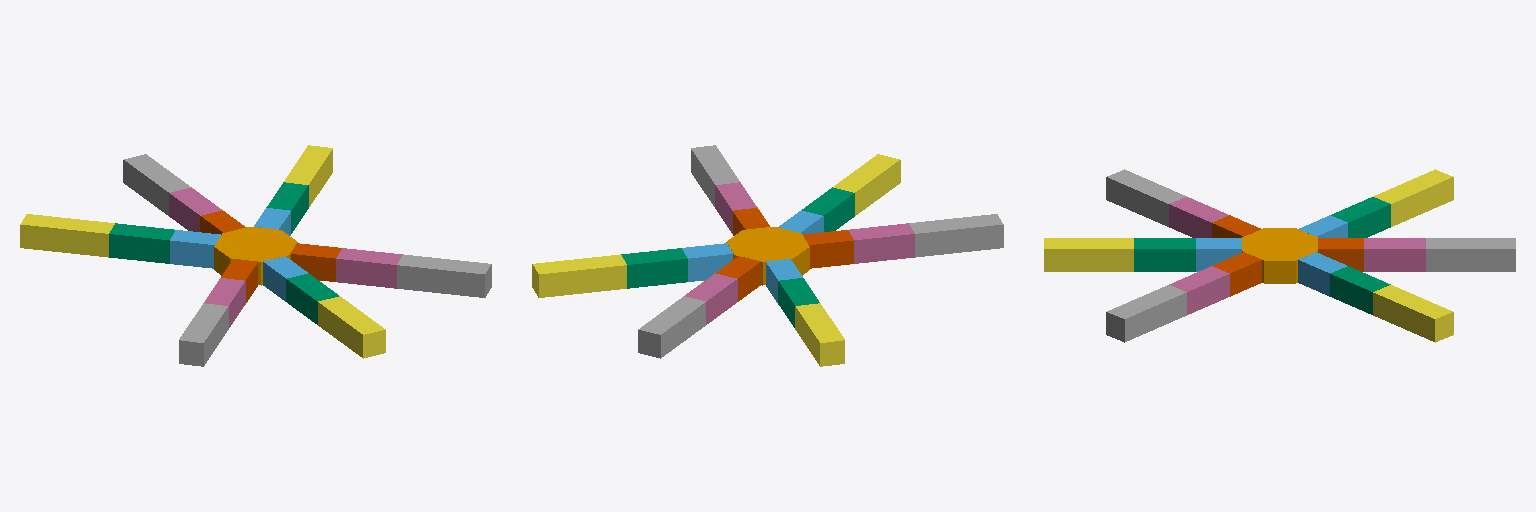
--- What the picture shows (computed from the rendered views, not written in the file) ---
The picture shows the robot from 3 angles, left to right: view 1: azimuth 30°, elevation 25°; view 2: azimuth 150°, elevation 25°; view 3: azimuth 270°, elevation 25°; orthographic projection.
Robot: rokusoku2 — 25 links, 24 joints (24 revolute); root link base; default pose: all joints at 0.
Links seen in each view (by area): view 1: link4_3, link3_3, link5_3, base, link6_3, link3_2, link4_2, link2_3, link1_3, link3_1, link5_2, link2_2 (+7 smaller); view 2: link1_3, link6_3, link2_3, base, link3_3, link6_2, link1_2, link5_3, link4_3, link6_1, link2_2, link5_2 (+7 smaller); view 3: link2_3, link5_3, base, link1_3, link4_3, link3_3, link6_3, link2_2, link5_2, link1_2, link4_2, link3_2 (+7 smaller).
Link boxes in pixels (x1=…): link4_3: x1=397, y1=254, x2=491, y2=297; link3_3: x1=20, y1=214, x2=114, y2=257; link5_3: x1=318, y1=296, x2=385, y2=358; base: x1=214, y1=227, x2=297, y2=285; link6_3: x1=179, y1=303, x2=228, y2=366; link3_2: x1=109, y1=223, x2=174, y2=263; link4_2: x1=336, y1=248, x2=402, y2=288; link2_3: x1=123, y1=154, x2=190, y2=215; link1_3: x1=284, y1=145, x2=332, y2=206; link3_1: x1=170, y1=230, x2=220, y2=268; link5_2: x1=286, y1=273, x2=338, y2=324; link2_2: x1=169, y1=187, x2=221, y2=231; link1_3: x1=532, y1=254, x2=626, y2=297; link6_3: x1=909, y1=214, x2=1003, y2=257; link2_3: x1=638, y1=296, x2=705, y2=358; base: x1=726, y1=227, x2=809, y2=285; link3_3: x1=795, y1=303, x2=844, y2=366; link6_2: x1=849, y1=223, x2=914, y2=263; link1_2: x1=621, y1=248, x2=687, y2=288; link5_3: x1=833, y1=154, x2=900, y2=215; link4_3: x1=691, y1=145, x2=739, y2=206; link6_1: x1=803, y1=230, x2=853, y2=268; link2_2: x1=685, y1=273, x2=737, y2=324; link5_2: x1=802, y1=187, x2=854, y2=231; link2_3: x1=1426, y1=238, x2=1515, y2=271; link5_3: x1=1044, y1=238, x2=1133, y2=271; base: x1=1242, y1=228, x2=1317, y2=283; link1_3: x1=1373, y1=285, x2=1453, y2=342; link4_3: x1=1106, y1=285, x2=1186, y2=342; link3_3: x1=1373, y1=169, x2=1453, y2=226; link6_3: x1=1106, y1=169, x2=1186, y2=226; link2_2: x1=1364, y1=238, x2=1425, y2=271; link5_2: x1=1134, y1=238, x2=1195, y2=271; link1_2: x1=1330, y1=266, x2=1390, y2=314; link4_2: x1=1169, y1=266, x2=1229, y2=314; link3_2: x1=1331, y1=197, x2=1390, y2=237.
Bounding box of the posed robot: 0.6932 × 0.92 × 0.05 m (x, y, z).
Meshes: 1 distinct files referenced, 1 mesh visuals loaded (1 binary STL).

robot.urdf — rokusoku2:
<?xml version="1.0" ?>
<robot name="rokusoku2">

	<link name="base">
	    <collision>
	        <origin rpy="0 0 0" xyz="-0.072 -0.07484 -0.025"/>
	        <geometry>
	            <mesh filename="package://sim/meshes/nhati.STL" scale="0.0001 0.0001 0.0025"/>
	            <!--<box size="0.1 0.1 0.5"/>-->
	        </geometry>
	    </collision>
        <visual>
	        <origin rpy="0 0 0" xyz="-0.072 -0.07484 -0.025"/>
	        <geometry>
	            <mesh filename="package://sim/meshes/nhati.STL" scale="0.0001 0.0001 0.0025"/>
	            <!--<box size="0.1 0.1 0.5"/>-->
	        </geometry>
	    </visual>
        <inertial>
            <origin rpy="0 0 0" xyz="-0.036 -0.03742 -0.0125"/>
            <mass value="0.3"/>
			<inertia ixx="1e-4" ixy="1e-7" ixz="1e-7" iyy="1e-4" iyz="1e-7" izz="1e-4"/>
       </inertial>
	</link>

	<!-- Joint1 -->
    <joint name="Joint1_1" type="revolute">
        <parent link="base"/>
        <child link="link1_1"/>
        <origin rpy="0 0 -0.8" xyz="0.056 0.053 0"/>
        <axis xyz="0 0 1"/>
        <dynamics damping="0.4"/>
        <limit effort="30" lower="-2.617" upper="2.617" velocity="1.571"/>
    </joint>

	<!-- Link1 -->
	<link name="link1_1">
		<collision>
			<origin rpy="0 0 0" xyz="0 0.045 0"/>
			<geometry>
				<box size="0.05 0.09 0.05"/>
			</geometry>
		</collision>
		<visual>
			<origin rpy="0 0 0" xyz="0 0.045 0"/>
			<geometry>
				<box size="0.05 0.09 0.05"/>
			</geometry>
		</visual>
		<inertial>
			<origin rpy="0 0 0" xyz="0 0.045 0"/>
			<mass value="0.06"/>
			<inertia ixx="1e-4" ixy="1e-7" ixz="1e-7" iyy="1e-4" iyz="1e-7" izz="1e-4"/>
		</inertial>
	</link>

	<!-- Joint2 -->
	<joint name="Joint1_2" type="revolute">
		<parent link="link1_1"/>
		<child link="link1_2"/>
		<origin rpy="0 0 0" xyz="0 0.09 0"/>
		<axis xyz="1 0 0"/>
		<limit effort="30" lower="-2.617" upper="2.617" velocity="1.571"/>
	</joint>

	<!-- Link2 -->
	<link name="link1_2">
		<collision>
			<origin rpy="0 0 0" xyz="0 0.06 0"/>
			<geometry>
				<box size="0.05 0.12 0.05"/>
			</geometry>
		</collision>
		<visual>
			<origin rpy="0 0 0" xyz="0 0.06 0"/>
			<geometry>
				<box size="0.05 0.12 0.05"/>
			</geometry>
		</visual>
		<inertial>
			<origin rpy="0 0 0" xyz="0 0.06 0"/>
			<mass value="0.08"/>
			<inertia ixx="1e-4" ixy="1e-7" ixz="1e-7" iyy="1e-4" iyz="1e-7" izz="1e-4"/>
		</inertial>
	</link>

	<!-- Joint3 -->
	<joint name="Joint1_3" type="revolute">
		<parent link="link1_2"/>
		<child link="link1_3"/>
		<origin rpy="0 0 0" xyz="0 0.12 0"/>
		<axis xyz="1 0 0"/>
		<limit effort="30" lower="-2.617" upper="2.617" velocity="1.571"/>
	</joint>

	<!-- Link3 -->
	<link name="link1_3">
		<collision>
			<origin rpy="0 0 0" xyz="0 0.0875 0"/>
			<geometry>
				<box size="0.05 0.175 0.05"/>
			</geometry>
		</collision>
		<visual>
			<origin rpy="0 0 0" xyz="0 0.0875 0"/>
			<geometry>
				<box size="0.05 0.175 0.05"/>
			</geometry>
		</visual>
		<inertial>
			<origin rpy="0 0 0" xyz="0 0.0875 0"/>
			<mass value="0.12"/>
			<inertia ixx="1e-4" ixy="1e-7" ixz="1e-7" iyy="1e-4" iyz="1e-7" izz="1e-4"/>
		</inertial>
	</link>

	<!-- Joint4 -->
	<joint name="Joint1_4" type="revolute">
		<parent link="link1_3"/>
		<child link="link1_4"/>
		<origin rpy="0 0 0" xyz="0 0.175 0"/>
		<axis xyz="0 0 0"/>
		<limit effort="0" lower="0" upper="0" velocity="0"/>
	</joint>

    <!-- Link4 -->
    <link name="link1_4">
        <inertial>
            <origin rpy="0 0 0" xyz=" 0 0 0"/>
            <mass value="0.1"/>
			<inertia ixx="1e-4" ixy="1e-7" ixz="1e-7" iyy="1e-4" iyz="1e-7" izz="1e-4"/>
        </inertial>
    </link>

	<!-- Joint1 -->
    <joint name="Joint2_1" type="revolute">
        <parent link="base"/>
        <child link="link2_1"/>
        <origin rpy="0 0 0" xyz="0 0.075 0"/>
        <axis xyz="0 0 1"/>
        <limit effort="30" lower="-2.617" upper="2.617" velocity="1.571"/>
    </joint>

	<!-- Link1 -->
	<link name="link2_1">
		<collision>
			<origin rpy="0 0 0" xyz="0 0.045 0"/>
			<geometry>
				<box size="0.05 0.09 0.05"/>
			</geometry>
		</collision>
		<visual>
			<origin rpy="0 0 0" xyz="0 0.045 0"/>
			<geometry>
				<box size="0.05 0.09 0.05"/>
			</geometry>
		</visual>
		<inertial>
			<origin rpy="0 0 0" xyz="0 0.045 0"/>
			<mass value="0.06"/>
			<inertia ixx="1e-4" ixy="1e-7" ixz="1e-7" iyy="1e-4" iyz="1e-7" izz="1e-4"/>
		</inertial>
	</link>

	<!-- Joint2 -->
	<joint name="Joint2_2" type="revolute">
		<parent link="link2_1"/>
		<child link="link2_2"/>
		<origin rpy="0 0 0" xyz="0 0.09 0"/>
		<axis xyz="1 0 0"/>
		<limit effort="30" lower="-2.617" upper="2.617" velocity="1.571"/>
	</joint>

	<!-- Link2 -->
	<link name="link2_2">
		<collision>
			<origin rpy="0 0 0" xyz="0 0.06 0"/>
			<geometry>
				<box size="0.05 0.12 0.05"/>
			</geometry>
		</collision>
		<visual>
			<origin rpy="0 0 0" xyz="0 0.06 0"/>
			<geometry>
				<box size="0.05 0.12 0.05"/>
			</geometry>
		</visual>
		<inertial>
			<origin rpy="0 0 0" xyz="0 0.06 0"/>
			<mass value="0.08"/>
			<inertia ixx="1e-4" ixy="1e-7" ixz="1e-7" iyy="1e-4" iyz="1e-7" izz="1e-4"/>
		</inertial>
	</link>

	<!-- Joint3 -->
	<joint name="Joint2_3" type="revolute">
		<parent link="link2_2"/>
		<child link="link2_3"/>
		<origin rpy="0 0 0" xyz="0 0.12 0"/>
		<axis xyz="1 0 0"/>
		<limit effort="30" lower="-2.617" upper="2.617" velocity="1.571"/>
	</joint>

	<!-- Link3 -->
	<link name="link2_3">
		<collision>
			<origin rpy="0 0 0" xyz="0 0.0875 0"/>
			<geometry>
				<box size="0.05 0.175 0.05"/>
			</geometry>
		</collision>
		<visual>
			<origin rpy="0 0 0" xyz="0 0.0875 0"/>
			<geometry>
				<box size="0.05 0.175 0.05"/>
			</geometry>
		</visual>
		<inertial>
			<origin rpy="0 0 0" xyz="0 0.0875 0"/>
			<mass value="0.12"/>
			<inertia ixx="1e-4" ixy="1e-7" ixz="1e-7" iyy="1e-4" iyz="1e-7" izz="1e-4"/>
		</inertial>
	</link>

	<!-- Joint4 -->
	<joint name="Joint2_4" type="revolute">
		<parent link="link2_3"/>
		<child link="link2_4"/>
		<origin rpy="0 0 0" xyz="0 0.175 0"/>
		<axis xyz="0 0 0"/>
		<limit effort="0" lower="0" upper="0" velocity="0"/>
	</joint>

    <!-- Link4 -->
    <link name="link2_4">
        <inertial>
            <origin rpy="0 0 0" xyz=" 0 0 0"/>
            <mass value="0.1"/>
			<inertia ixx="1e-4" ixy="1e-7" ixz="1e-7" iyy="1e-4" iyz="1e-7" izz="1e-4"/>
        </inertial>
    </link>


	<!-- Joint1 -->
    <joint name="Joint3_1" type="revolute">
        <parent link="base"/>
        <child link="link3_1"/>
        <origin rpy="0 0 0.8" xyz="-0.05 0.053 0"/>
        <axis xyz="0 0 1"/>
        <limit effort="30" lower="-2.617" upper="2.617" velocity="1.571"/>
    </joint>

	<!-- Link1 -->
	<link name="link3_1">
		<collision>
			<origin rpy="0 0 0" xyz="0 0.045 0"/>
			<geometry>
				<box size="0.05 0.09 0.05"/>
			</geometry>
		</collision>
		<visual>
			<origin rpy="0 0 0" xyz="0 0.045 0"/>
			<geometry>
				<box size="0.05 0.09 0.05"/>
			</geometry>
		</visual>
		<inertial>
			<origin rpy="0 0 0" xyz="0 0.045 0"/>
			<mass value="0.06"/>
			<inertia ixx="1e-4" ixy="1e-7" ixz="1e-7" iyy="1e-4" iyz="1e-7" izz="1e-4"/>
		</inertial>
	</link>

	<!-- Joint2 -->
	<joint name="Joint3_2" type="revolute">
		<parent link="link3_1"/>
		<child link="link3_2"/>
		<origin rpy="0 0 0" xyz="0 0.09 0"/>
		<axis xyz="1 0 0"/>
		<limit effort="30" lower="-2.617" upper="2.617" velocity="1.571"/>
	</joint>

	<!-- Link2 -->
	<link name="link3_2">
		<collision>
			<origin rpy="0 0 0" xyz="0 0.06 0"/>
			<geometry>
				<box size="0.05 0.12 0.05"/>
			</geometry>
		</collision>
		<visual>
			<origin rpy="0 0 0" xyz="0 0.06 0"/>
			<geometry>
				<box size="0.05 0.12 0.05"/>
			</geometry>
		</visual>
		<inertial>
			<origin rpy="0 0 0" xyz="0 0.06 0"/>
			<mass value="0.08"/>
			<inertia ixx="1e-4" ixy="1e-7" ixz="1e-7" iyy="1e-4" iyz="1e-7" izz="1e-4"/>
		</inertial>
	</link>

	<!-- Joint3 -->
	<joint name="Joint3_3" type="revolute">
		<parent link="link3_2"/>
		<child link="link3_3"/>
		<origin rpy="0 0 0" xyz="0 0.12 0"/>
		<axis xyz="1 0 0"/>
		<limit effort="30" lower="-2.617" upper="2.617" velocity="1.571"/>
	</joint>

	<!-- Link3 -->
	<link name="link3_3">
		<collision>
			<origin rpy="0 0 0" xyz="0 0.0875 0"/>
			<geometry>
				<box size="0.05 0.175 0.05"/>
			</geometry>
		</collision>
		<visual>
			<origin rpy="0 0 0" xyz="0 0.0875 0"/>
			<geometry>
				<box size="0.05 0.175 0.05"/>
			</geometry>
		</visual>
		<inertial>
			<origin rpy="0 0 0" xyz="0 0.0875 0"/>
			<mass value="0.12"/>
			<inertia ixx="1e-4" ixy="1e-7" ixz="1e-7" iyy="1e-4" iyz="1e-7" izz="1e-4"/>
		</inertial>
	</link>

	<!-- Joint4 -->
	<joint name="Joint3_4" type="revolute">
		<parent link="link3_3"/>
		<child link="link3_4"/>
		<origin rpy="0 0 0" xyz="0 0.175 0"/>
		<axis xyz="0 0 0"/>
		<limit effort="0" lower="0" upper="0" velocity="0"/>
	</joint>

    <!-- Link4 -->
    <link name="link3_4">
        <inertial>
            <origin rpy="0 0 0" xyz=" 0 0 0"/>
            <mass value="0.1"/>
			<inertia ixx="1e-4" ixy="1e-7" ixz="1e-7" iyy="1e-4" iyz="1e-7" izz="1e-4"/>
        </inertial>
    </link>


	<!-- Joint1 -->
    <joint name="Joint4_1" type="revolute">
        <parent link="base"/>
        <child link="link4_1"/>
        <origin rpy="0 0 0.8" xyz="0.056 -0.053 0"/>
        <axis xyz="0 0 -1"/>
        <limit effort="30" lower="-2.617" upper="2.617" velocity="1.571"/>
    </joint>

	<!-- Link1 -->
	<link name="link4_1">
		<collision>
			<origin rpy="0 0 0" xyz="0 -0.045 0"/>
			<geometry>
				<box size="0.05 0.09 0.05"/>
			</geometry>
		</collision>
		<visual>
			<origin rpy="0 0 0" xyz="0 -0.045 0"/>
			<geometry>
				<box size="0.05 0.09 0.05"/>
			</geometry>
		</visual>
		<inertial>
			<origin rpy="0 0 0" xyz="0 -0.045 0"/>
			<mass value="0.06"/>
			<inertia ixx="1e-4" ixy="1e-7" ixz="1e-7" iyy="1e-4" iyz="1e-7" izz="1e-4"/>
		</inertial>
	</link>

	<!-- Joint2 -->
	<joint name="Joint4_2" type="revolute">
		<parent link="link4_1"/>
		<child link="link4_2"/>
		<origin rpy="0 0 0" xyz="0 -0.09 0"/>
		<axis xyz="-1 0 0"/>
		<limit effort="30" lower="-2.617" upper="2.617" velocity="1.571"/>
	</joint>

	<!-- Link2 -->
	<link name="link4_2">
		<collision>
			<origin rpy="0 0 0" xyz="0 -0.06 0"/>
			<geometry>
				<box size="0.05 0.12 0.05"/>
			</geometry>
		</collision>
		<visual>
			<origin rpy="0 0 0" xyz="0 -0.06 0"/>
			<geometry>
				<box size="0.05 0.12 0.05"/>
			</geometry>
		</visual>
		<inertial>
			<origin rpy="0 0 0" xyz="0 -0.06 0"/>
			<mass value="0.08"/>
			<inertia ixx="1e-4" ixy="1e-7" ixz="1e-7" iyy="1e-4" iyz="1e-7" izz="1e-4"/>
		</inertial>
	</link>

	<!-- Joint3 -->
	<joint name="Joint4_3" type="revolute">
		<parent link="link4_2"/>
		<child link="link4_3"/>
		<origin rpy="0 0 0" xyz="0 -0.12 0"/>
		<axis xyz="-1 0 0"/>
		<limit effort="30" lower="-2.617" upper="2.617" velocity="1.571"/>
	</joint>

	<!-- Link3 -->
	<link name="link4_3">
		<collision>
			<origin rpy="0 0 0" xyz="0 -0.0875 0"/>
			<geometry>
				<box size="0.05 0.175 0.05"/>
			</geometry>
		</collision>
		<visual>
			<origin rpy="0 0 0" xyz="0 -0.0875 0"/>
			<geometry>
				<box size="0.05 0.175 0.05"/>
			</geometry>
		</visual>
		<inertial>
			<origin rpy="0 0 0" xyz="0 -0.0875 0"/>
			<mass value="0.12"/>
			<inertia ixx="1e-4" ixy="1e-7" ixz="1e-7" iyy="1e-4" iyz="1e-7" izz="1e-4"/>
		</inertial>
	</link>

	<!-- Joint4 -->
	<joint name="Joint4_4" type="revolute">
		<parent link="link4_3"/>
		<child link="link4_4"/>
		<origin rpy="0 0 0" xyz="0 -0.175 0"/>
		<axis xyz="0 0 0"/>
		<limit effort="0" lower="0" upper="0" velocity="0"/>
	</joint>

    <!-- Link4 -->
    <link name="link4_4">
        <inertial>
            <origin rpy="0 0 0" xyz=" 0 0 0"/>
            <mass value="0.1"/>
			<inertia ixx="1e-4" ixy="1e-7" ixz="1e-7" iyy="1e-4" iyz="1e-7" izz="1e-4"/>
        </inertial>
    </link>


	<!-- Joint1 -->
    <joint name="Joint5_1" type="revolute">
        <parent link="base"/>
        <child link="link5_1"/>
        <origin rpy="0 0 0" xyz="0 -0.075 0"/>
        <axis xyz="0 0 -1"/>
        <limit effort="30" lower="-2.617" upper="2.617" velocity="1.571"/>
    </joint>

	<!-- Link1 -->
	<link name="link5_1">
		<collision>
			<origin rpy="0 0 0" xyz="0 -0.075 0"/>
			<geometry>
				<box size="0.05 0.09 0.05"/>
			</geometry>
		</collision>
		<visual>
			<origin rpy="0 0 0" xyz="0 -0.045 0"/>
			<geometry>
				<box size="0.05 0.09 0.05"/>
			</geometry>
		</visual>
		<inertial>
			<origin rpy="0 0 0" xyz="0 -0.025 0"/>
			<mass value="0.06"/>
			<inertia ixx="1e-4" ixy="1e-7" ixz="1e-7" iyy="1e-4" iyz="1e-7" izz="1e-4"/>
		</inertial>
	</link>

	<!-- Joint2 -->
	<joint name="Joint5_2" type="revolute">
		<parent link="link5_1"/>
		<child link="link5_2"/>
		<origin rpy="0 0 0" xyz="0 -0.09 0"/>
		<axis xyz="-1 0 0"/>
		<limit effort="30" lower="-2.617" upper="2.617" velocity="1.571"/>
	</joint>

	<!-- Link2 -->
	<link name="link5_2">
		<collision>
			<origin rpy="0 0 0" xyz="0 -0.06 0"/>
			<geometry>
				<box size="0.05 0.12 0.05"/>
			</geometry>
		</collision>
		<visual>
			<origin rpy="0 0 0" xyz="0 -0.06 0"/>
			<geometry>
				<box size="0.05 0.12 0.05"/>
			</geometry>
		</visual>
		<inertial>
			<origin rpy="0 0 0" xyz="0 -0.06 0"/>
			<mass value="0.08"/>
			<inertia ixx="1e-4" ixy="1e-7" ixz="1e-7" iyy="1e-4" iyz="1e-7" izz="1e-4"/>
		</inertial>
	</link>

	<!-- Joint3 -->
	<joint name="Joint5_3" type="revolute">
		<parent link="link5_2"/>
		<child link="link5_3"/>
		<origin rpy="0 0 0" xyz="0 -0.12 0"/>
		<axis xyz="-1 0 0"/>
		<limit effort="30" lower="-2.617" upper="2.617" velocity="1.571"/>
	</joint>

	<!-- Link3 -->
	<link name="link5_3">
		<collision>
			<origin rpy="0 0 0" xyz="0 -0.0875 0"/>
			<geometry>
				<box size="0.05 0.175 0.05"/>
			</geometry>
		</collision>
		<visual>
			<origin rpy="0 0 0" xyz="0 -0.0875 0"/>
			<geometry>
				<box size="0.05 0.175 0.05"/>
			</geometry>
		</visual>
		<inertial>
			<origin rpy="0 0 0" xyz="0 -0.0875 0"/>
			<mass value="0.12"/>
			<inertia ixx="1e-4" ixy="1e-7" ixz="1e-7" iyy="1e-4" iyz="1e-7" izz="1e-4"/>
		</inertial>
	</link>

	<!-- Joint4 -->
	<joint name="Joint5_4" type="revolute">
		<parent link="link5_3"/>
		<child link="link5_4"/>
		<origin rpy="0 0 0" xyz="0 -0.175 0"/>
		<axis xyz="0 0 0"/>
		<limit effort="0" lower="0" upper="0" velocity="0"/>
	</joint>

    <!-- Link4 -->
    <link name="link5_4">
        <inertial>
            <origin rpy="0 0 0" xyz=" 0 0 0"/>
            <mass value="0.1"/>
			<inertia ixx="1e-4" ixy="1e-7" ixz="1e-7" iyy="1e-4" iyz="1e-7" izz="1e-4"/>
        </inertial>
    </link>


	<!-- Joint1 -->
    <joint name="Joint6_1" type="revolute">
        <parent link="base"/>
        <child link="link6_1"/>
        <origin rpy="0 0 -0.8" xyz="-0.05 -0.053 0"/>
        <axis xyz="0 0 -1"/>
        <limit effort="30" lower="-2.617" upper="2.617" velocity="1.571"/>
    </joint>

	<!-- Link1 -->
	<link name="link6_1">
		<collision>
			<origin rpy="0 0 0" xyz="0 -0.045 0"/>
			<geometry>
				<box size="0.05 0.09 0.05"/>
			</geometry>
		</collision>
		<visual>
			<origin rpy="0 0 0" xyz="0 -0.045 0"/>
			<geometry>
				<box size="0.05 0.09 0.05"/>
			</geometry>
		</visual>
		<inertial>
			<origin rpy="0 0 0" xyz="0 -0.045 0"/>
			<mass value="0.06"/>
			<inertia ixx="1e-4" ixy="1e-7" ixz="1e-7" iyy="1e-4" iyz="1e-7" izz="1e-4"/>
		</inertial>
	</link>

	<!-- Joint2 -->
	<joint name="Joint6_2" type="revolute">
		<parent link="link6_1"/>
		<child link="link6_2"/>
		<origin rpy="0 0 0" xyz="0 -0.09 0"/>
		<axis xyz="-1 0 0"/>
		<limit effort="30" lower="-2.617" upper="2.617" velocity="1.571"/>
	</joint>

	<!-- Link2 -->
	<link name="link6_2">
		<collision>
			<origin rpy="0 0 0" xyz="0 -0.06 0"/>
			<geometry>
				<box size="0.05 0.12 0.05"/>
			</geometry>
		</collision>
		<visual>
			<origin rpy="0 0 0" xyz="0 -0.06 0"/>
			<geometry>
				<box size="0.05 0.12 0.05"/>
			</geometry>
		</visual>
		<inertial>
			<origin rpy="0 0 0" xyz="0 -0.06 0"/>
			<mass value="0.08"/>
			<inertia ixx="1e-4" ixy="1e-7" ixz="1e-7" iyy="1e-4" iyz="1e-7" izz="1e-4"/>
		</inertial>
	</link>

	<!-- Joint3 -->
	<joint name="Joint6_3" type="revolute">
		<parent link="link6_2"/>
		<child link="link6_3"/>
		<origin rpy="0 0 0" xyz="0 -0.12 0"/>
		<axis xyz="-1 0 0"/>
		<limit effort="30" lower="-2.617" upper="2.617" velocity="1.571"/>
	</joint>

	<!-- Link3 -->
	<link name="link6_3">
		<collision>
			<origin rpy="0 0 0" xyz="0 -0.0875 0"/>
			<geometry>
				<box size="0.05 0.175 0.05"/>
			</geometry>
		</collision>
		<visual>
			<origin rpy="0 0 0" xyz="0 -0.0875 0"/>
			<geometry>
				<box size="0.05 0.175 0.05"/>
			</geometry>
		</visual>
		<inertial>
			<origin rpy="0 0 0" xyz="0 -0.0875 0"/>
			<mass value="0.12"/>
			<inertia ixx="1e-4" ixy="1e-7" ixz="1e-7" iyy="1e-4" iyz="1e-7" izz="1e-4"/>
		</inertial>
	</link>

	<!-- Joint4 -->
	<joint name="Joint6_4" type="revolute">
		<parent link="link6_3"/>
		<child link="link6_4"/>
		<origin rpy="0 0 0" xyz="0 -0.175 0"/>
		<axis xyz="0 0 0"/>
		<limit effort="0" lower="0" upper="0" velocity="0"/>
	</joint>

    <!-- Link4 -->
    <link name="link6_4">
        <inertial>
            <origin rpy="0 0 0" xyz=" 0 0 0"/>
            <mass value="0.1"/>
			<inertia ixx="1e-4" ixy="1e-7" ixz="1e-7" iyy="1e-4" iyz="1e-7" izz="1e-4"/>
        </inertial>
    </link>


    <transmission name="trans1_1">
        <type>transmission_interface/SimpleTransmission</type>
        <joint name="Joint1_1">
            <hardwareInterface>hardware_interface/VelocityJointInterface</hardwareInterface>
        </joint>
        <actuator name="moter1_1">
            <hardwareInterface>VelocityJointInterface</hardwareInterface>
        </actuator>
    </transmission>

    <transmission name="trans1_2">
        <type>transmission_interface/SimpleTransmission</type>
        <joint name="Joint1_2">
            <hardwareInterface>hardware_interface/VelocityJointInterface</hardwareInterface>
        </joint>
        <actuator name="moter1_2">
            <hardwareInterface>VelocityJointInterface</hardwareInterface>
        </actuator>
    </transmission>

    <transmission name="trans1_3">
        <type>transmission_interface/SimpleTransmission</type>
        <joint name="Joint1_3">
            <hardwareInterface>hardware_interface/VelocityJointInterface</hardwareInterface>
        </joint>
        <actuator name="moter1_3">
            <hardwareInterface>VelocityJointInterface</hardwareInterface>
        </actuator>
    </transmission>


    <transmission name="trans2_1">
        <type>transmission_interface/SimpleTransmission</type>
        <joint name="Joint2_1">
            <hardwareInterface>hardware_interface/VelocityJointInterface</hardwareInterface>
        </joint>
        <actuator name="moter2_1">
            <hardwareInterface>VelocityJointInterface</hardwareInterface>
        </actuator>
    </transmission>

    <transmission name="trans2_2">
        <type>transmission_interface/SimpleTransmission</type>
        <joint name="Joint2_2">
            <hardwareInterface>hardware_interface/VelocityJointInterface</hardwareInterface>
        </joint>
        <actuator name="moter2_2">
            <hardwareInterface>VelocityJointInterface</hardwareInterface>
        </actuator>
    </transmission>

    <transmission name="trans2_3">
        <type>transmission_interface/SimpleTransmission</type>
        <joint name="Joint2_3">
            <hardwareInterface>hardware_interface/VelocityJointInterface</hardwareInterface>
        </joint>
        <actuator name="moter2_3">
            <hardwareInterface>VelocityJointInterface</hardwareInterface>
        </actuator>
    </transmission>


    <transmission name="trans3_1">
        <type>transmission_interface/SimpleTransmission</type>
        <joint name="Joint3_1">
            <hardwareInterface>hardware_interface/VelocityJointInterface</hardwareInterface>
        </joint>
        <actuator name="moter3_1">
            <hardwareInterface>VelocityJointInterface</hardwareInterface>
        </actuator>
    </transmission>

    <transmission name="trans3_2">
        <type>transmission_interface/SimpleTransmission</type>
        <joint name="Joint3_2">
            <hardwareInterface>hardware_interface/VelocityJointInterface</hardwareInterface>
        </joint>
        <actuator name="moter3_2">
            <hardwareInterface>VelocityJointInterface</hardwareInterface>
        </actuator>
    </transmission>

    <transmission name="trans3_3">
        <type>transmission_interface/SimpleTransmission</type>
        <joint name="Joint3_3">
            <hardwareInterface>hardware_interface/VelocityJointInterface</hardwareInterface>
        </joint>
        <actuator name="moter3_3">
            <hardwareInterface>VelocityJointInterface</hardwareInterface>
        </actuator>
    </transmission>


    <transmission name="trans4_1">
        <type>transmission_interface/SimpleTransmission</type>
        <joint name="Joint4_1">
            <hardwareInterface>hardware_interface/VelocityJointInterface</hardwareInterface>
        </joint>
        <actuator name="moter4_1">
            <hardwareInterface>VelocityJointInterface</hardwareInterface>
        </actuator>
    </transmission>

    <transmission name="trans4_2">
        <type>transmission_interface/SimpleTransmission</type>
        <joint name="Joint4_2">
            <hardwareInterface>hardware_interface/VelocityJointInterface</hardwareInterface>
        </joint>
        <actuator name="moter4_2">
            <hardwareInterface>VelocityJointInterface</hardwareInterface>
        </actuator>
    </transmission>

    <transmission name="trans4_3">
        <type>transmission_interface/SimpleTransmission</type>
        <joint name="Joint4_3">
            <hardwareInterface>hardware_interface/VelocityJointInterface</hardwareInterface>
        </joint>
        <actuator name="moter4_3">
            <hardwareInterface>VelocityJointInterface</hardwareInterface>
        </actuator>
    </transmission>


    <transmission name="trans5_1">
        <type>transmission_interface/SimpleTransmission</type>
        <joint name="Joint5_1">
            <hardwareInterface>hardware_interface/VelocityJointInterface</hardwareInterface>
        </joint>
        <actuator name="moter5_1">
            <hardwareInterface>VelocityJointInterface</hardwareInterface>
        </actuator>
    </transmission>

    <transmission name="trans5_2">
        <type>transmission_interface/SimpleTransmission</type>
        <joint name="Joint5_2">
            <hardwareInterface>hardware_interface/VelocityJointInterface</hardwareInterface>
        </joint>
        <actuator name="moter5_2">
            <hardwareInterface>VelocityJointInterface</hardwareInterface>
        </actuator>
    </transmission>

    <transmission name="trans5_3">
        <type>transmission_interface/SimpleTransmission</type>
        <joint name="Joint5_3">
            <hardwareInterface>hardware_interface/VelocityJointInterface</hardwareInterface>
        </joint>
        <actuator name="moter5_3">
            <hardwareInterface>VelocityJointInterface</hardwareInterface>
        </actuator>
    </transmission>


    <transmission name="trans6_1">
        <type>transmission_interface/SimpleTransmission</type>
        <joint name="Joint6_1">
            <hardwareInterface>hardware_interface/VelocityJointInterface</hardwareInterface>
        </joint>
        <actuator name="moter6_1">
            <hardwareInterface>VelocityJointInterface</hardwareInterface>
        </actuator>
    </transmission>

    <transmission name="trans6_2">
        <type>transmission_interface/SimpleTransmission</type>
        <joint name="Joint6_2">
            <hardwareInterface>hardware_interface/VelocityJointInterface</hardwareInterface>
        </joint>
        <actuator name="moter6_2">
            <hardwareInterface>VelocityJointInterface</hardwareInterface>
        </actuator>
    </transmission>

    <transmission name="trans6_3">
        <type>transmission_interface/SimpleTransmission</type>
        <joint name="Joint6_3">
            <hardwareInterface>hardware_interface/VelocityJointInterface</hardwareInterface>
        </joint>
        <actuator name="moter6_3">
            <hardwareInterface>VelocityJointInterface</hardwareInterface>
        </actuator>
    </transmission>


    <gazebo>
        <plugin name="gazebo_ros_control" filename="libgazebo_ros_control.so">
          <robotNamespace>rokusoku2</robotNamespace>
        </plugin>
    </gazebo>

    <gazebo reference="base">
      <selfCollide>true</selfCollide>
      <gravity>1</gravity>
      <mu1>0.8</mu1>
      <mu2>0.8</mu2>
    </gazebo>

    <gazebo reference="link1_1">
      <selfCollide>true</selfCollide>
      <gravity>1</gravity>
      <mu1>0.8</mu1>
      <mu2>0.8</mu2>
    </gazebo>

    <gazebo reference="link1_2">
      <selfCollide>true</selfCollide>
      <gravity>1</gravity>
      <mu1>0.8</mu1>
      <mu2>0.8</mu2>
    </gazebo>

    <gazebo reference="link1_3">
      <selfCollide>true</selfCollide>
      <gravity>1</gravity>
      <mu1>0.8</mu1>
      <mu2>0.8</mu2>
    </gazebo>


    <gazebo reference="link2_1">
      <selfCollide>true</selfCollide>
      <gravity>1</gravity>
      <mu1>0.8</mu1>
      <mu2>0.8</mu2>
    </gazebo>

    <gazebo reference="link2_2">
      <selfCollide>true</selfCollide>
      <gravity>1</gravity>
      <mu1>0.8</mu1>
      <mu2>0.8</mu2>
    </gazebo>

    <gazebo reference="link2_3">
      <selfCollide>true</selfCollide>
      <gravity>1</gravity>
      <mu1>0.8</mu1>
      <mu2>0.8</mu2>
    </gazebo>


    <gazebo reference="link3_1">
      <selfCollide>true</selfCollide>
      <gravity>1</gravity>
      <mu1>0.8</mu1>
      <mu2>0.8</mu2>
    </gazebo>

    <gazebo reference="link3_2">
      <selfCollide>true</selfCollide>
      <gravity>1</gravity>
      <mu1>0.8</mu1>
      <mu2>0.8</mu2>
    </gazebo>

    <gazebo reference="link3_3">
      <selfCollide>true</selfCollide>
      <gravity>1</gravity>
      <mu1>0.8</mu1>
      <mu2>0.8</mu2>
    </gazebo>


    <gazebo reference="link4_1">
      <selfCollide>true</selfCollide>
      <gravity>1</gravity>
      <mu1>0.8</mu1>
      <mu2>0.8</mu2>
    </gazebo>

    <gazebo reference="link4_2">
      <selfCollide>true</selfCollide>
      <gravity>1</gravity>
      <mu1>0.8</mu1>
      <mu2>0.8</mu2>
    </gazebo>

    <gazebo reference="link4_3">
      <selfCollide>true</selfCollide>
      <gravity>1</gravity>
      <mu1>0.8</mu1>
      <mu2>0.8</mu2>
    </gazebo>


    <gazebo reference="link5_1">
      <selfCollide>true</selfCollide>
      <gravity>1</gravity>
      <mu1>0.8</mu1>
      <mu2>0.8</mu2>
    </gazebo>

    <gazebo reference="link5_2">
      <selfCollide>true</selfCollide>
      <gravity>1</gravity>
      <mu1>0.8</mu1>
      <mu2>0.8</mu2>
    </gazebo>

    <gazebo reference="link5_3">
      <selfCollide>true</selfCollide>
      <gravity>1</gravity>
      <mu1>0.8</mu1>
      <mu2>0.8</mu2>
    </gazebo>


    <gazebo reference="link6_1">
      <selfCollide>true</selfCollide>
      <gravity>1</gravity>
      <mu1>0.8</mu1>
      <mu2>0.8</mu2>
    </gazebo>

    <gazebo reference="link6_2">
      <selfCollide>true</selfCollide>
      <gravity>1</gravity>
      <mu1>0.8</mu1>
      <mu2>0.8</mu2>
    </gazebo>

    <gazebo reference="link6_3">
      <selfCollide>true</selfCollide>
      <gravity>1</gravity>
      <mu1>0.8</mu1>
      <mu2>0.8</mu2>
    </gazebo>

</robot>
